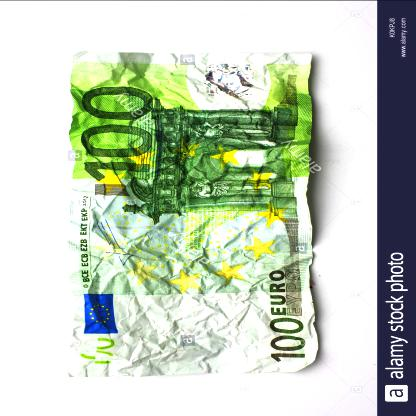euro_banknote: (28, 89, 355, 341)
